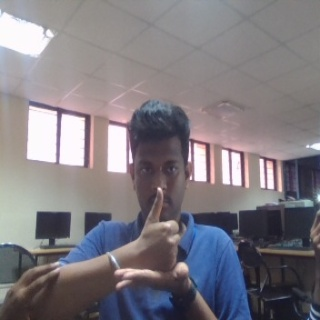Help: (108, 185, 195, 298)
